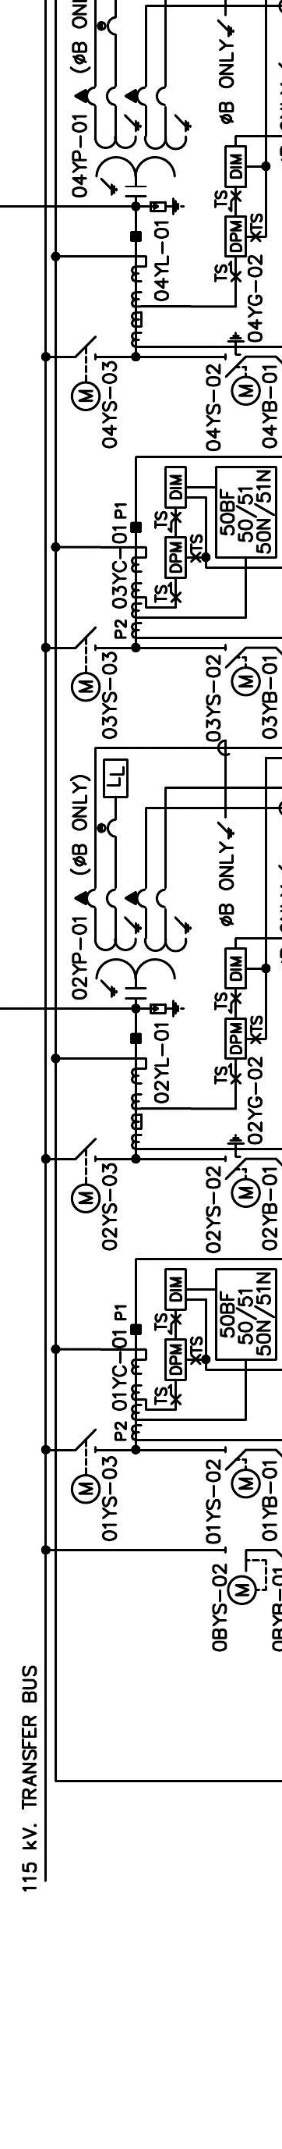115_1way_ds_w_motor: (223, 1546, 268, 1606), (70, 334, 101, 413), (70, 1428, 101, 1505), (70, 1138, 101, 1214), (70, 626, 101, 703), (225, 1446, 263, 1499), (225, 644, 261, 698)
115_3ways_ds_w_motor: (225, 330, 261, 407), (225, 1133, 261, 1209)
115_cvt_1p: (74, 887, 193, 1000), (74, 85, 193, 197)
115_la: (149, 999, 185, 1018), (149, 197, 185, 215)
DIM: (164, 1268, 188, 1312), (225, 947, 248, 990), (164, 466, 188, 508), (225, 145, 248, 188)
DPM: (164, 1338, 188, 1381), (164, 536, 188, 580), (225, 215, 248, 258), (225, 1017, 246, 1059)
LL: (103, 758, 129, 799)
